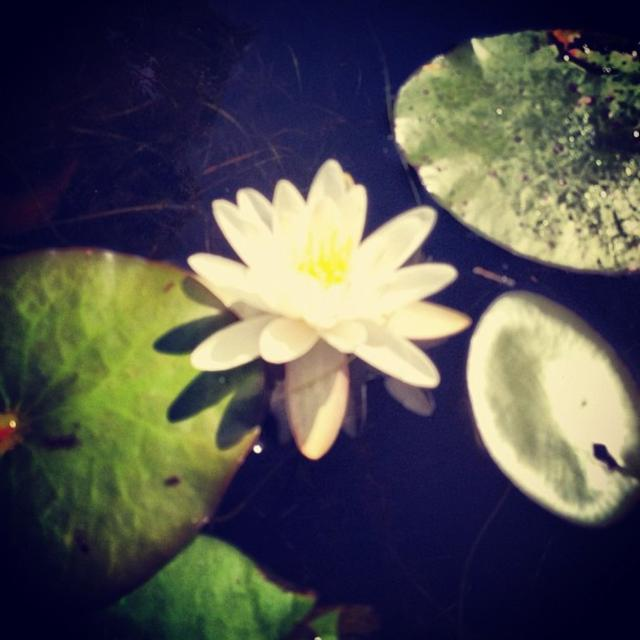Flower: (189, 158, 481, 468)
